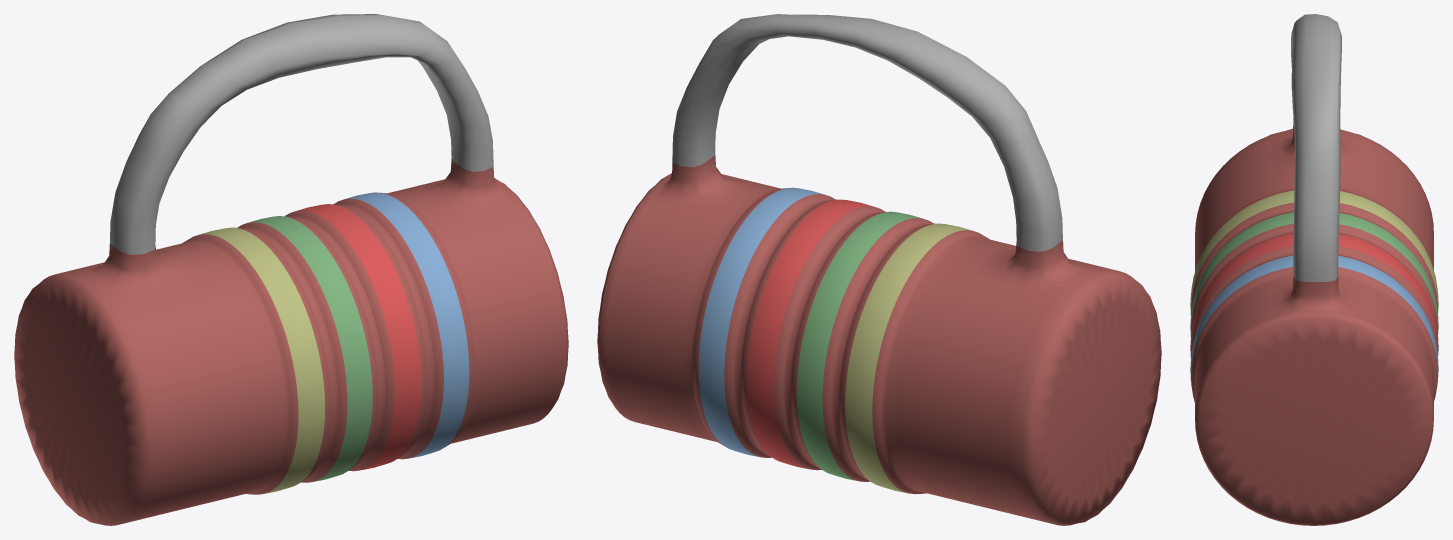
File: KeyLock.fbx
3 views of the same model, side by side, from view 1: azimuth 30°, elevation 25°; view 2: azimuth 150°, elevation 25°; view 3: azimuth 270°, elevation 25° (orthographic). The views are drawn at different scales.
Parts seen in each view (by area): view 1: Lock; view 2: Lock; view 3: Lock.
Part boxes in pixels (x1,y1,x2,y2): Lock: (14, 14, 568, 525); Lock: (597, 14, 1161, 525); Lock: (1190, 14, 1438, 525).
Bounding box in the file's own units: 200 × 192 × 108.
